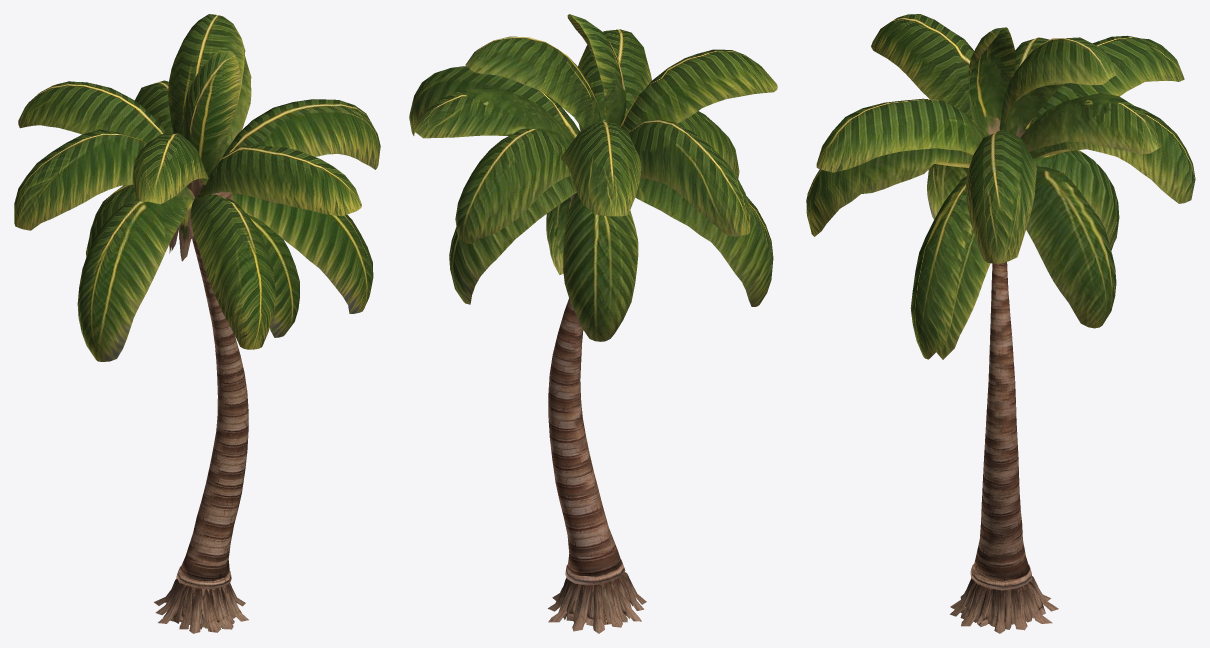
File: palm.glb
3 views of the same model, side by side, from view 1: azimuth 30°, elevation 25°; view 2: azimuth 150°, elevation 25°; view 3: azimuth 270°, elevation 25° (orthographic). The views are drawn at different scales.
Visible parts, largest first — view 1: palm; view 2: palm; view 3: palm.
Boxes of the visible parts, bbox=[...] form: palm: bbox=[14, 14, 380, 633]; palm: bbox=[409, 14, 777, 633]; palm: bbox=[806, 14, 1195, 633].
Bounding box in the file's own units: 0.6415 × 1 × 0.5932.
Materials: 1 (1 with a texture image).
